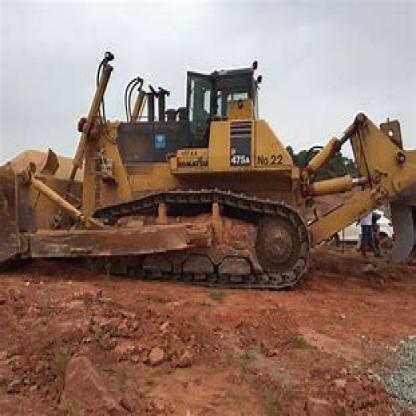bull_dozer/loader/grader: (4, 52, 415, 300)
